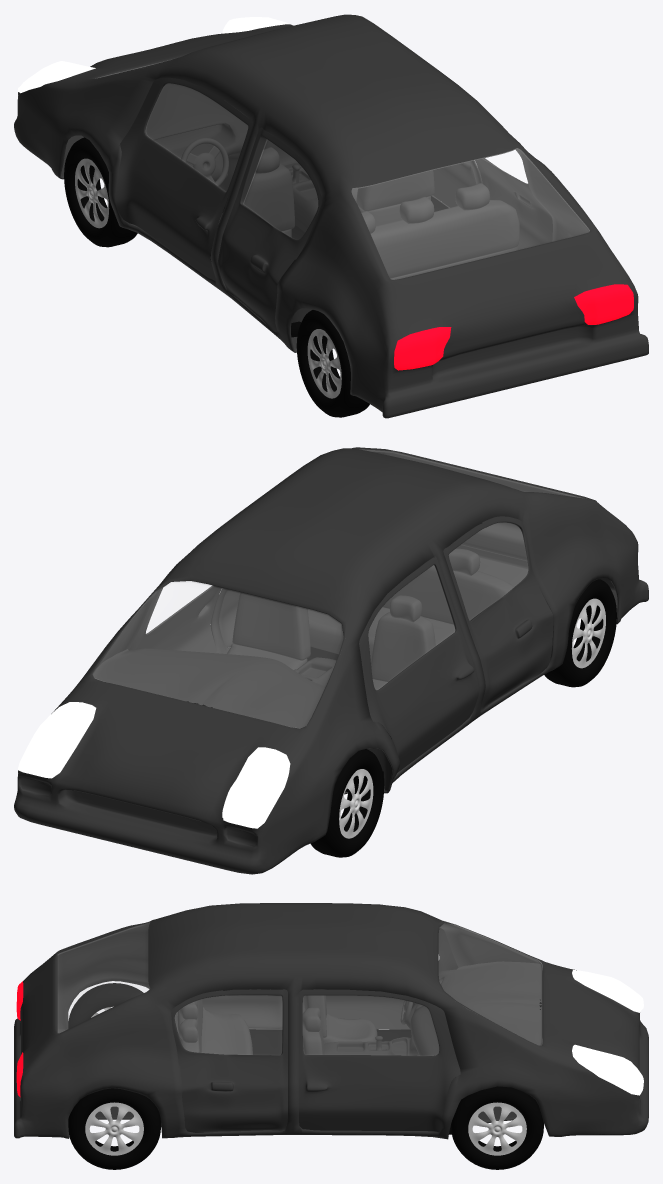
File: dork car.glb
The picture shows the model from 3 angles, top to bottom: view 1: azimuth 30°, elevation 25°; view 2: azimuth 150°, elevation 25°; view 3: azimuth 270°, elevation 25°; orthographic projection. The views are drawn at different scales.
Parts seen in each view (by area): view 1: Car Body, Front Doors.001, Back Doors.001, Back Mid, Console, Rear Left, Front Left, Back Doors, Driver Mid, Passenger Seat Mid, Front Doors, Steering Wheel (+3 smaller); view 2: Car Body, Front Doors.001, Back Doors.001, Console, Front Left, Rear Left, Passenger Seat Mid, Front Doors, Back Mid, Driver Mid, Back Seat, Back Doors (+3 smaller); view 3: Car Body, Front Doors, Back Doors, Console, Front Right, Rear Right, Front Doors.001, Back Doors.001, Back Seat, Rear Left, Driver Seat, Floor (+5 smaller).
Boxes of the visible parts, x1,y1,x2,y2 form: Car Body: [14, 14, 648, 418]; Front Doors.001: [115, 77, 252, 280]; Back Doors.001: [217, 127, 321, 332]; Back Mid: [370, 200, 519, 278]; Console: [113, 83, 318, 232]; Rear Left: [296, 310, 369, 417]; Front Left: [64, 137, 137, 247]; Back Doors: [475, 149, 552, 250]; Driver Mid: [243, 163, 294, 231]; Passenger Seat Mid: [356, 170, 434, 211]; Front Doors: [433, 162, 476, 207]; Steering Wheel: [181, 138, 228, 186]; Car Body: [14, 447, 648, 874]; Front Doors.001: [359, 556, 478, 772]; Back Doors.001: [443, 516, 553, 711]; Console: [92, 648, 393, 790]; Front Left: [310, 749, 384, 857]; Rear Left: [544, 579, 616, 687]; Passenger Seat Mid: [232, 592, 310, 660]; Front Doors: [129, 585, 221, 653]; Back Mid: [382, 560, 513, 624]; Driver Mid: [371, 612, 435, 681]; Back Seat: [307, 607, 476, 662]; Back Doors: [219, 589, 240, 649]; Car Body: [14, 903, 648, 1139]; Front Doors: [299, 989, 460, 1132]; Back Doors: [171, 989, 287, 1132]; Console: [323, 961, 542, 1055]; Front Right: [451, 1086, 543, 1169]; Rear Right: [68, 1088, 160, 1169]; Front Doors.001: [302, 927, 458, 1029]; Back Doors.001: [202, 989, 282, 1028]; Back Seat: [201, 1007, 252, 1054]; Rear Left: [68, 983, 143, 1028]; Driver Seat: [323, 1013, 377, 1043]; Floor: [249, 1029, 451, 1134].
Size of the model in its own units: 2.85 by 2.24 by 6.69.
